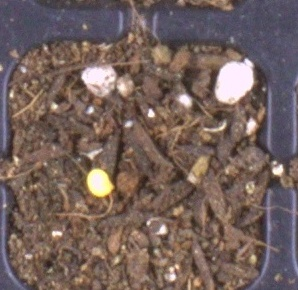chilli seed: (86, 168, 115, 198)
